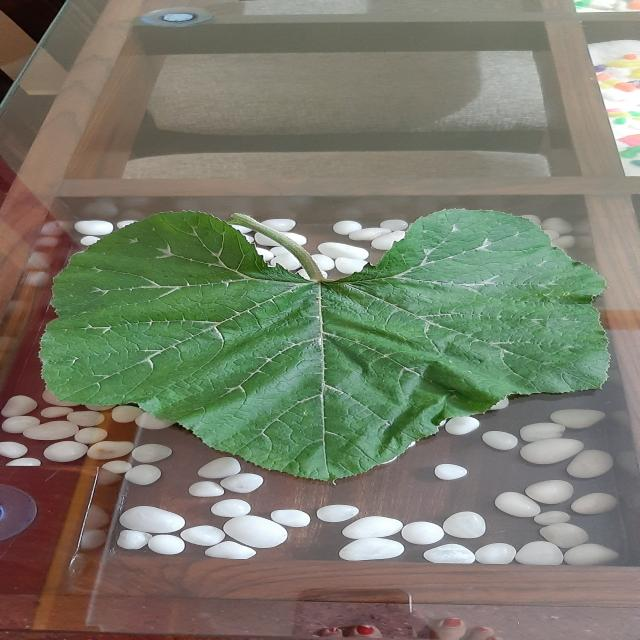pumpkin: (41, 209, 607, 481)
